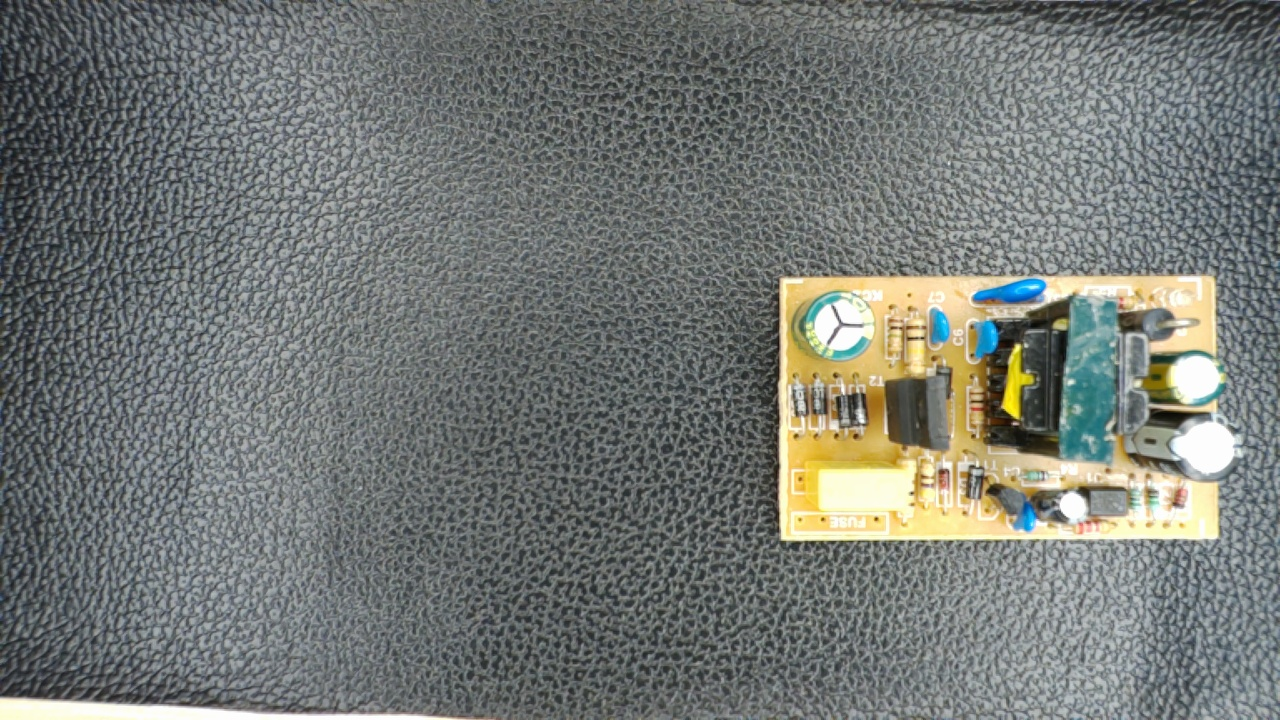hv_capacitor: (791, 291, 878, 362)
mov: (969, 275, 1050, 312)
optocoupler: (1080, 480, 1137, 521)
